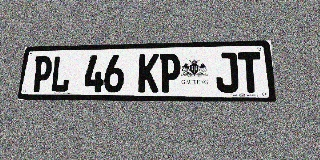4: (83, 55, 105, 92)
6: (103, 54, 125, 92)
J: (215, 52, 239, 93)
K: (138, 54, 159, 92)
L: (50, 55, 72, 92)
P: (159, 53, 180, 92), (31, 56, 53, 92)
T: (238, 52, 263, 93)
